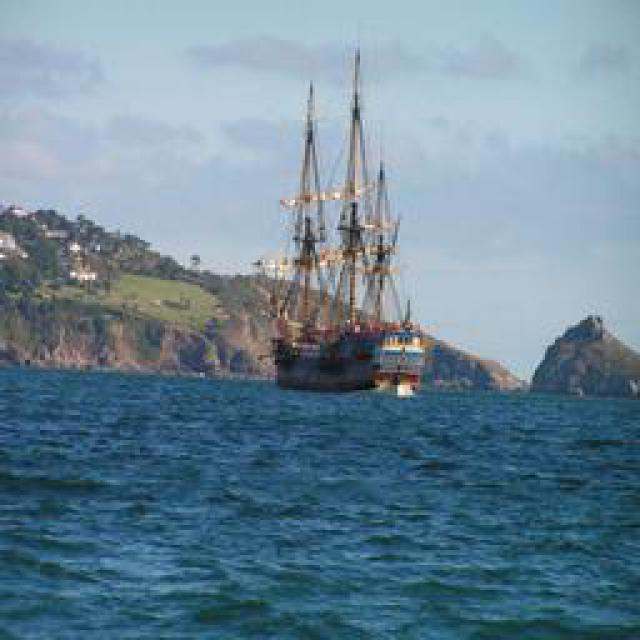Ship: (261, 46, 434, 404)
